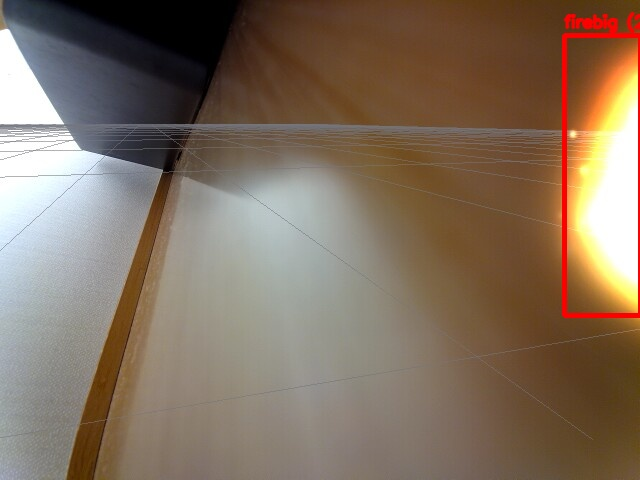firebig: (564, 35, 640, 315)
